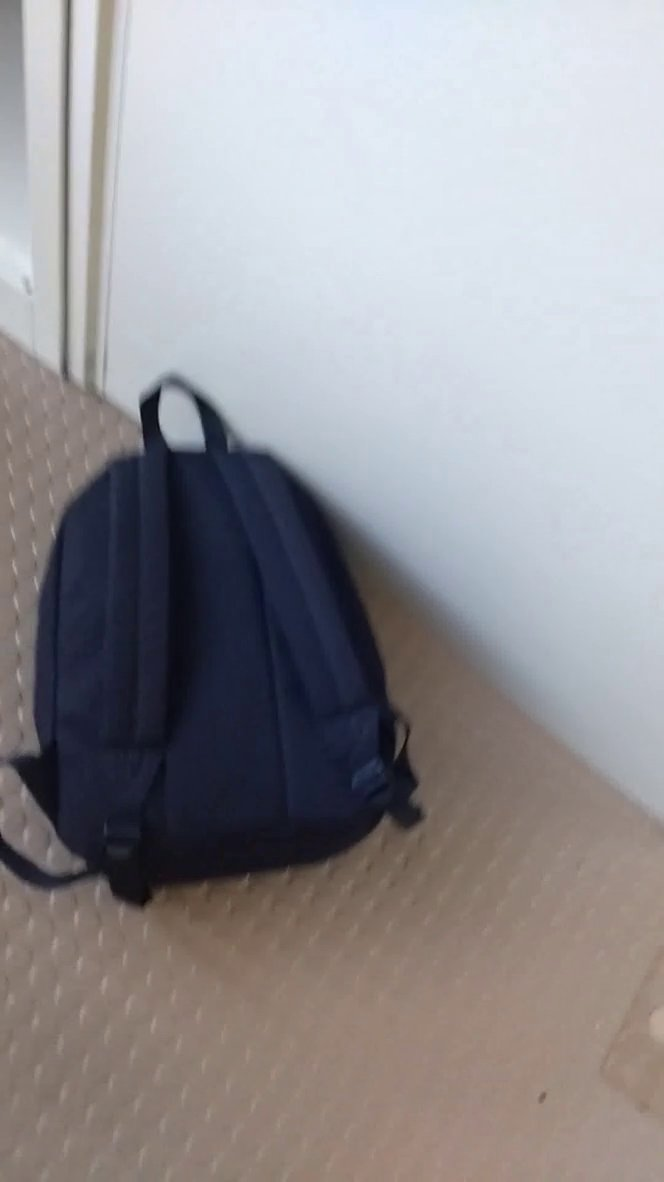bag: (1, 348, 441, 942)
